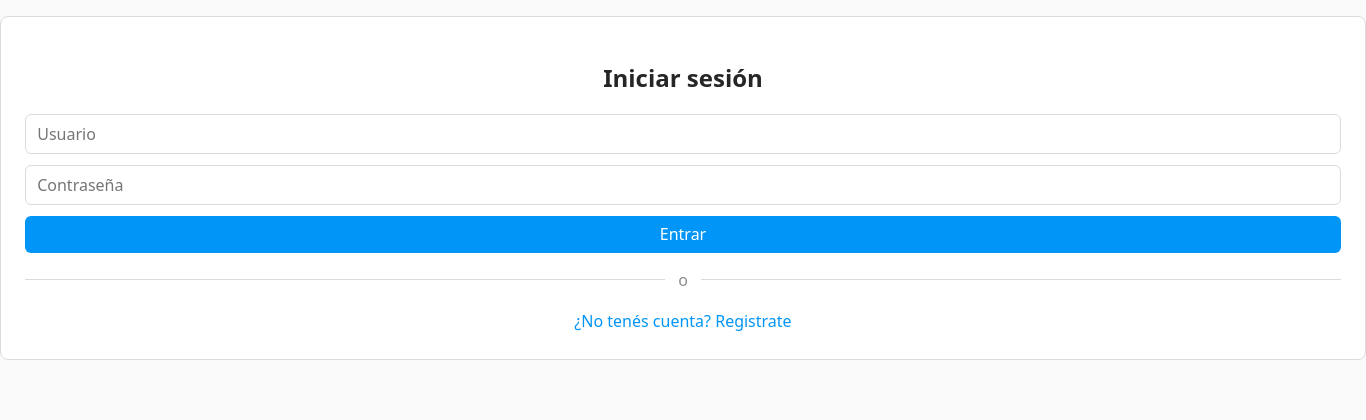
Scenario: AuthPage › muestra el error del backend si el login falla
Type "ana" into the field with placeholder "Usuario".
click(683, 134); type("ana")  # box [25, 114, 1341, 154]
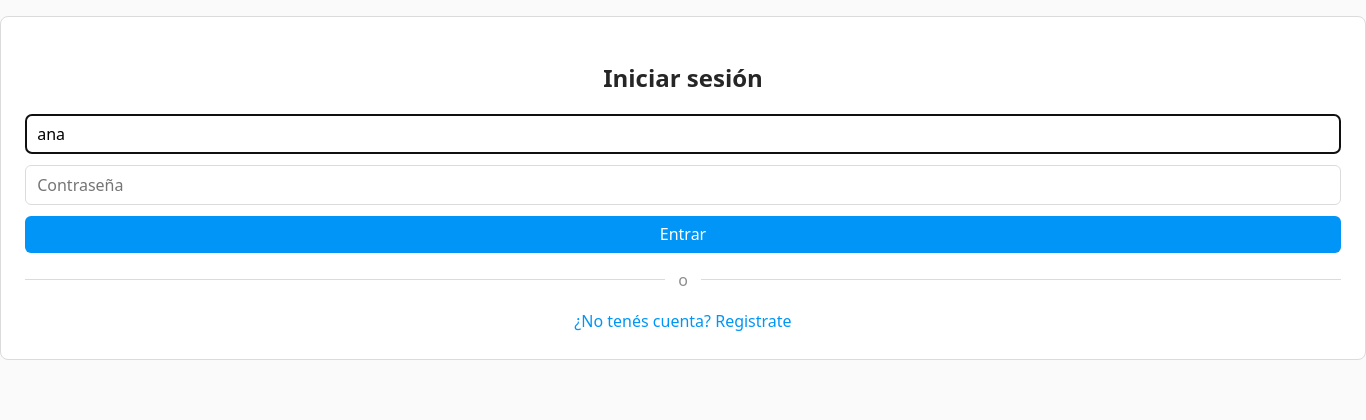
Type "malmalmal" into the password field with placeholder "Contraseña".
click(683, 185); type("malmalmal")  # box [25, 165, 1341, 205]
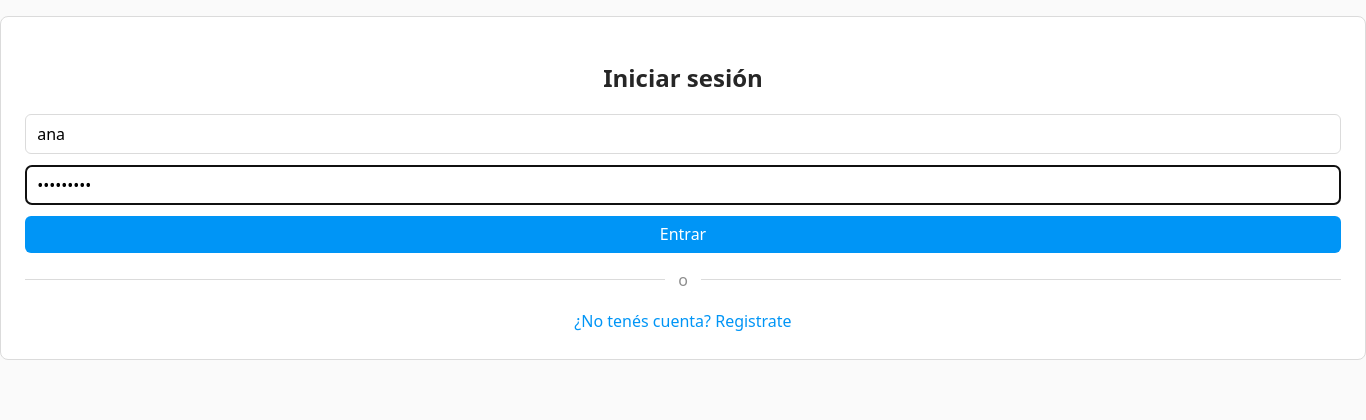
Click the button "Entrar".
click(683, 234)  # box [25, 216, 1341, 253]
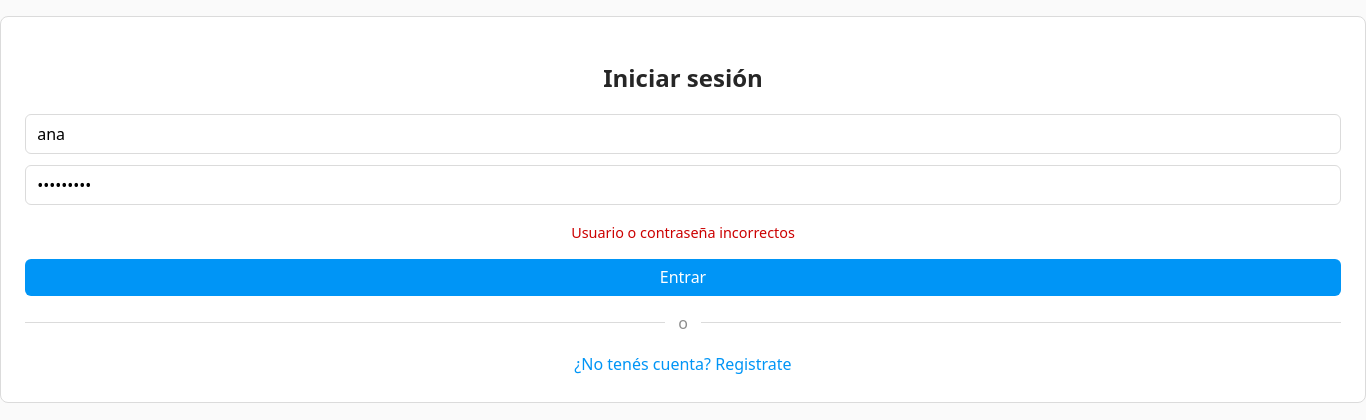
Check: the text "Usuario o contraseña incorrectos" is shown, box [571, 223, 795, 242]
